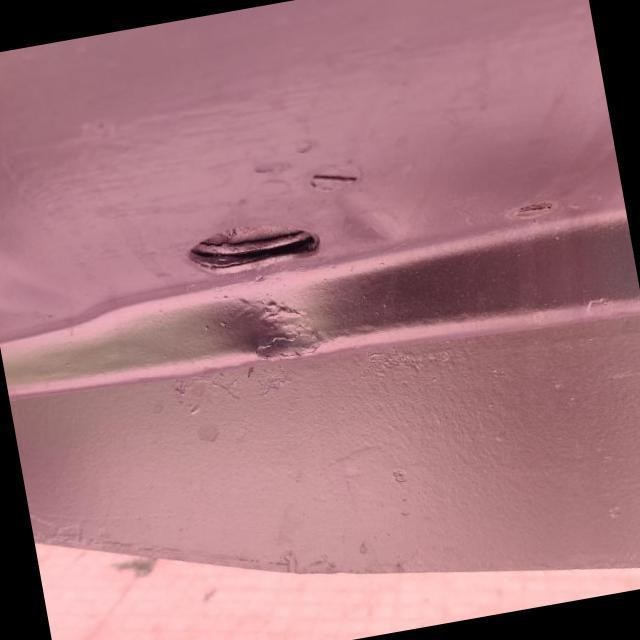dent: (209, 292, 325, 358)
